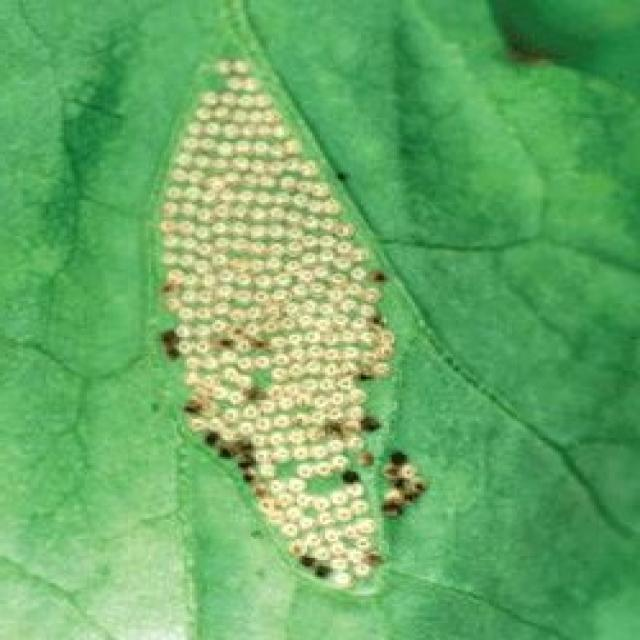army worm: (118, 48, 428, 591)
